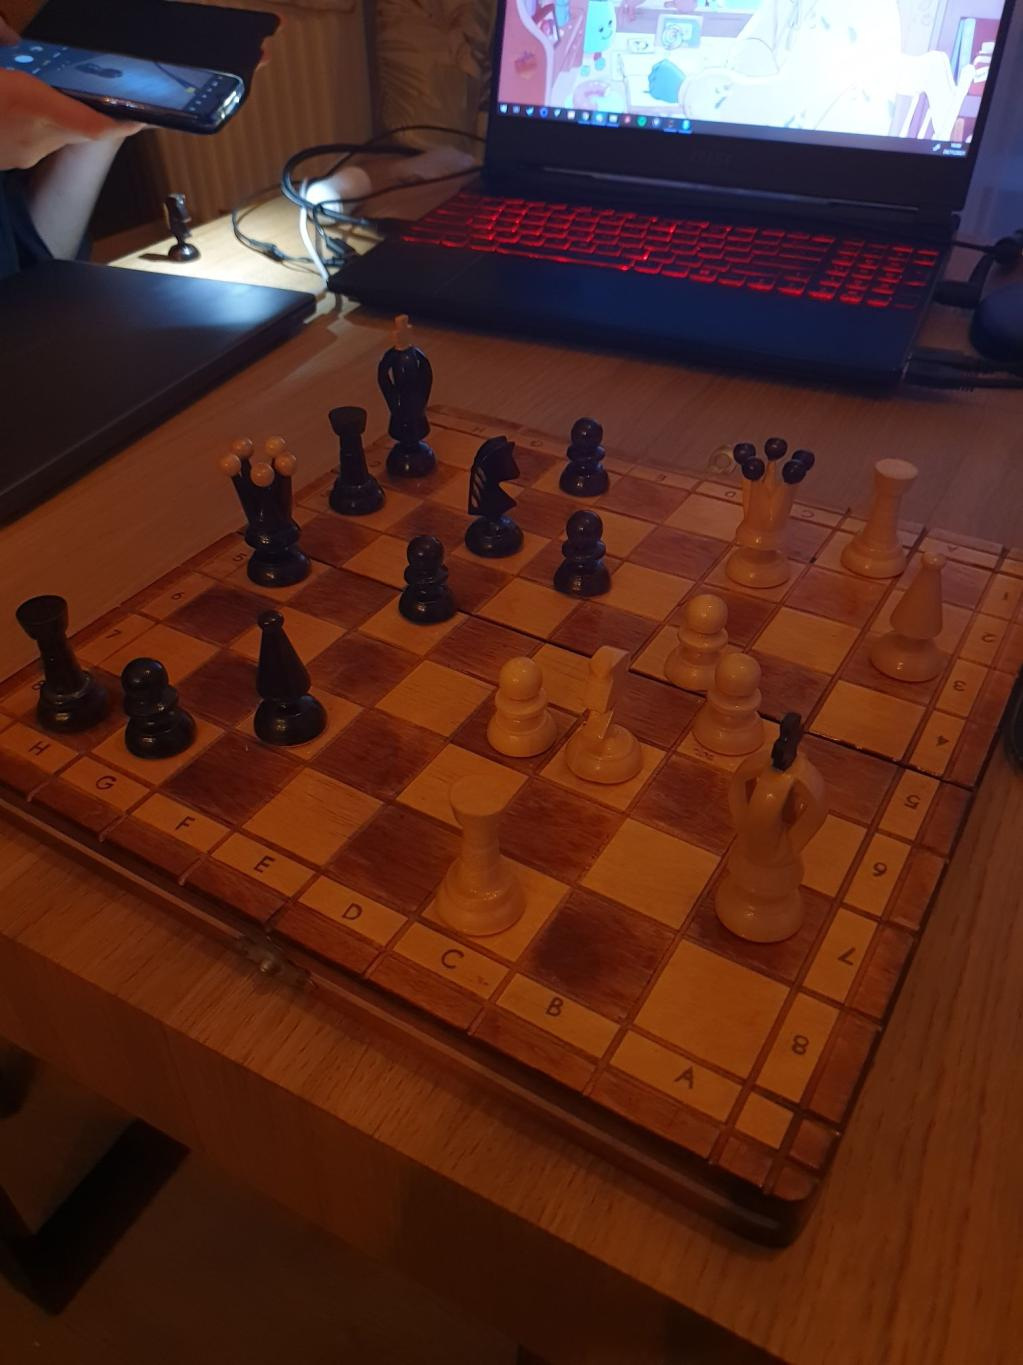bbishop: (246, 607, 331, 755)
bking: (375, 313, 445, 489)
bknight: (464, 429, 525, 567), (154, 189, 204, 268)
bpawn: (115, 653, 201, 764), (397, 528, 458, 629), (550, 508, 615, 602), (553, 414, 614, 502)
bqueen: (217, 429, 319, 590)
brook: (14, 590, 116, 742), (325, 402, 386, 520)
wbishop: (862, 549, 961, 691)
wking: (718, 713, 826, 946)
wknight: (564, 642, 647, 791)
wpawn: (482, 651, 561, 765), (694, 647, 768, 761), (666, 594, 734, 699)
wqueen: (719, 434, 819, 605)
wrook: (434, 775, 529, 943), (839, 455, 916, 587)
